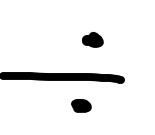div: (2, 27, 124, 117)
